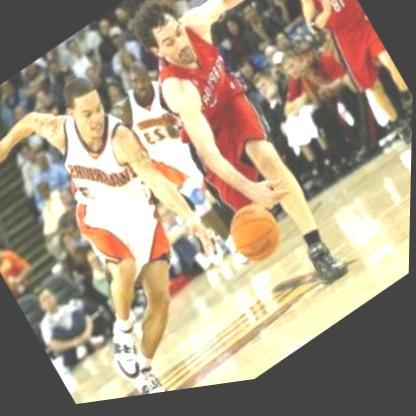basketball: (221, 199, 290, 279)
